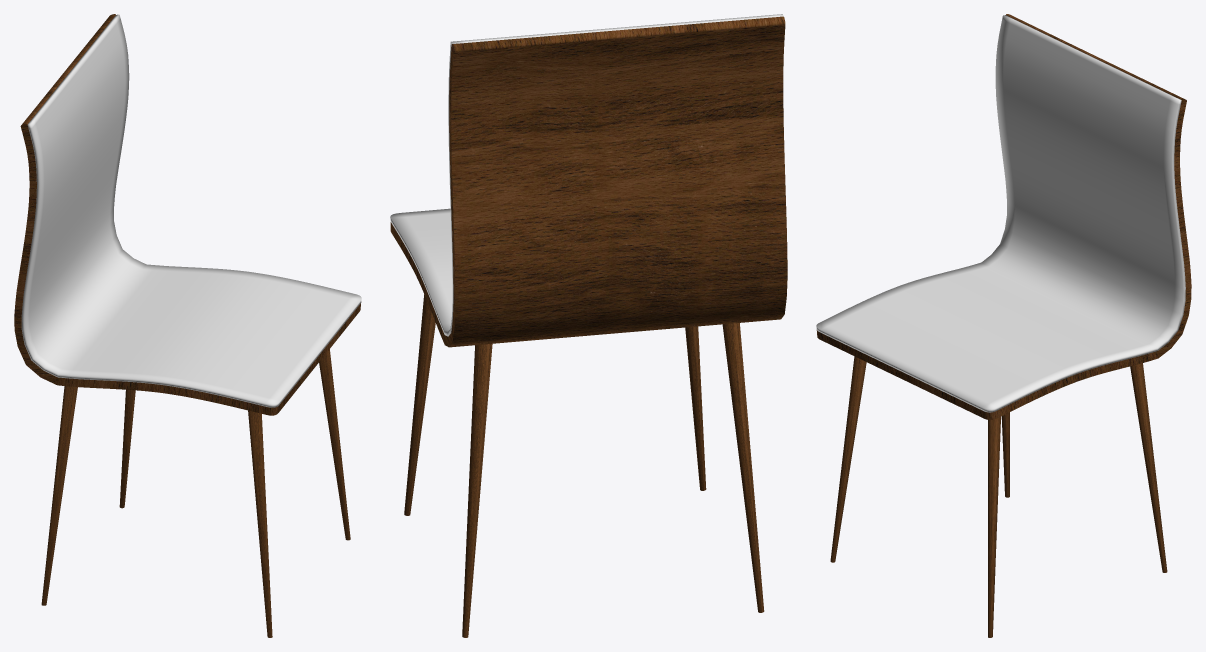
Rendered from Chair_New.glb.
3 views of the same model, side by side, from view 1: azimuth 30°, elevation 25°; view 2: azimuth 150°, elevation 25°; view 3: azimuth 270°, elevation 25° (orthographic). The views are drawn at different scales.
Visible parts, largest first — view 1: Chair_Fabric, Chair_Legs, Chair; view 2: Chair, Chair_Legs, Chair_Fabric; view 3: Chair_Fabric, Chair_Legs, Chair.
Boxes of the visible parts, x1=… form: Chair_Fabric: x1=21, y1=14, x2=361, y2=407; Chair_Legs: x1=41, y1=349, x2=350, y2=637; Chair: x1=14, y1=14, x2=361, y2=415; Chair: x1=390, y1=16, x2=787, y2=347; Chair_Legs: x1=404, y1=294, x2=764, y2=637; Chair_Fabric: x1=390, y1=14, x2=783, y2=336; Chair_Fabric: x1=816, y1=15, x2=1185, y2=412; Chair_Legs: x1=830, y1=356, x2=1167, y2=637; Chair: x1=816, y1=14, x2=1191, y2=419.
Size of the model in its own units: 0.7903 by 1.1 by 0.7895.
2 materials, 1 textured.
